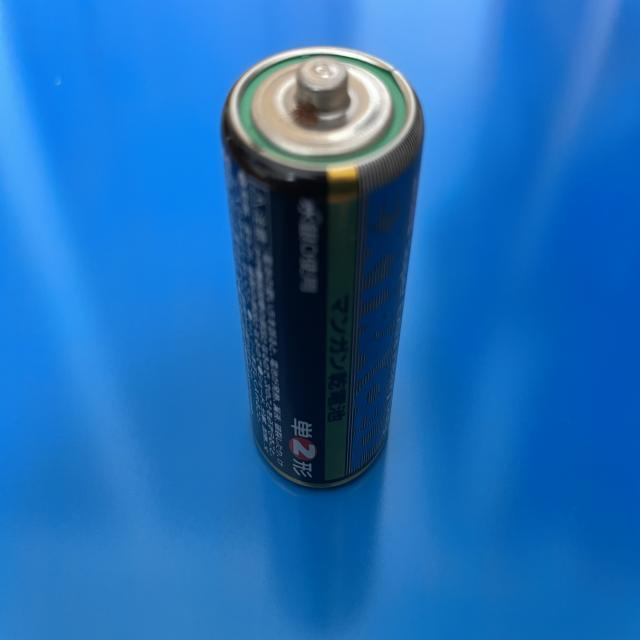hazardous waste: (212, 44, 427, 492)
